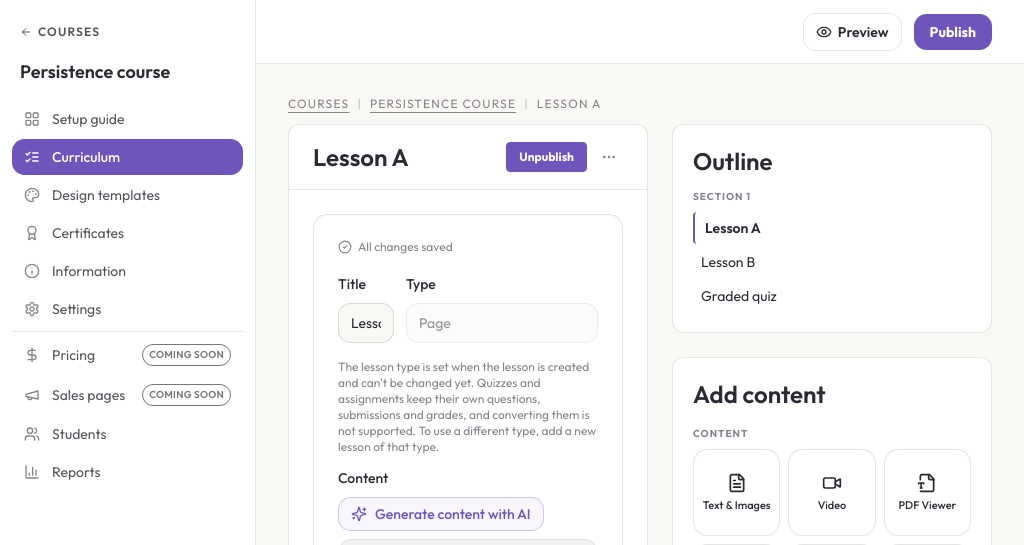
it: CourseBuilder lesson persistence › P03: a slow save for A that lands after switching to B never writes into B
The width and height of the screenshot is (1024, 545).
Replace the text in the field labelled "Title" with "A slow" at (366, 323), box [338,303,394,343]
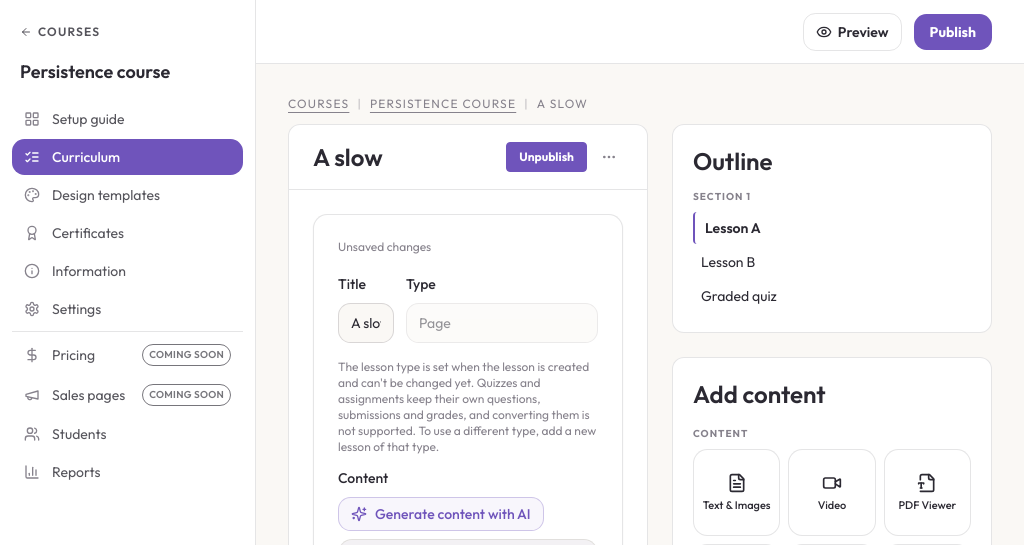
Click the button "Lesson B".
click(728, 262)  # box [693,246,967,278]
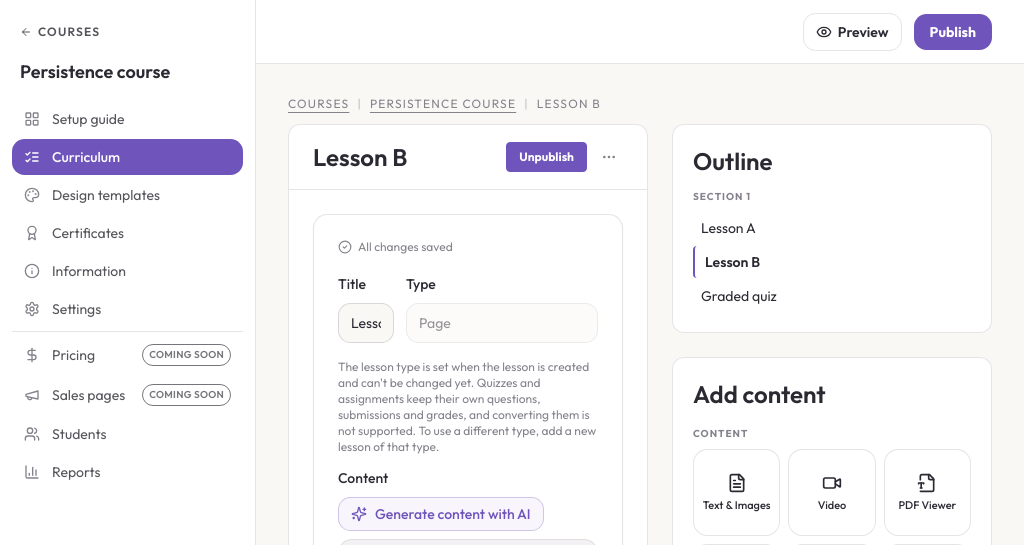
Check: the field labelled "Title" holds "Lesson B"
Replace the text in the field labelled "Title" with "B typed" at (366, 323), box [338,303,394,343]
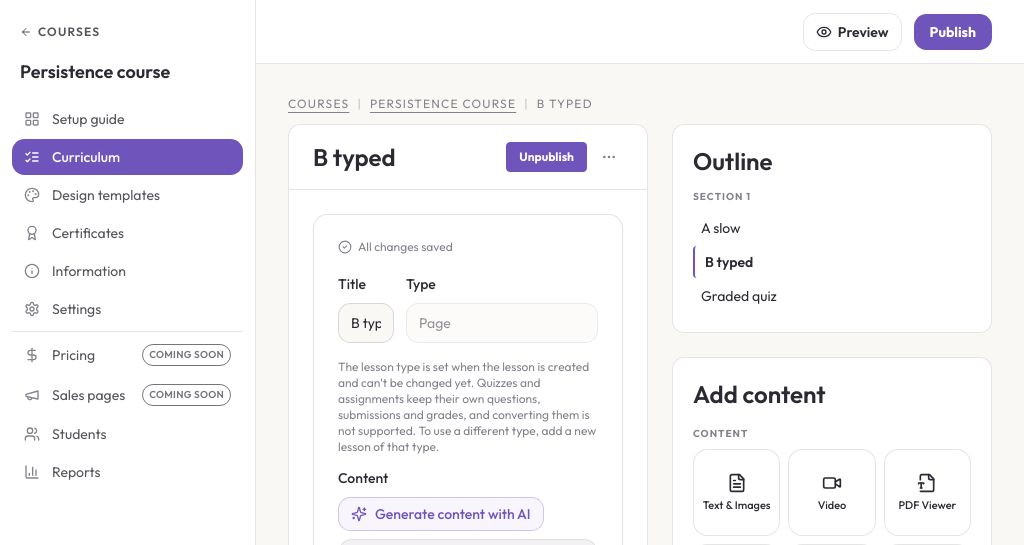
Check: the text "A slow" is shown, box [701,219,741,237]
